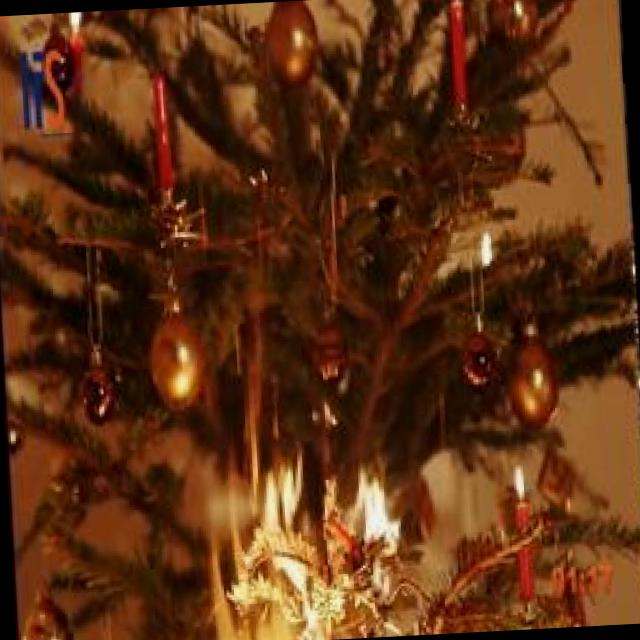fire: (186, 434, 433, 578)
